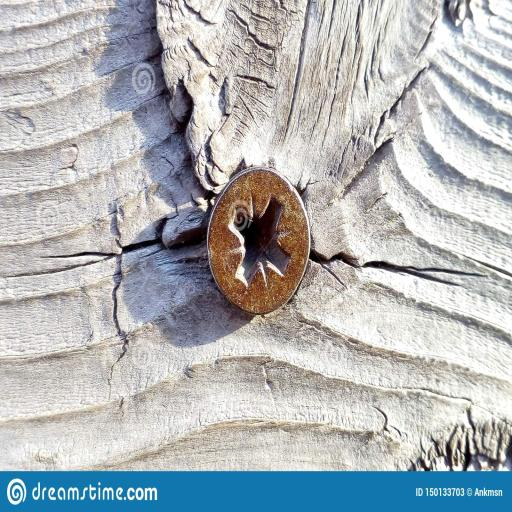Phillips: (207, 169, 310, 314)
